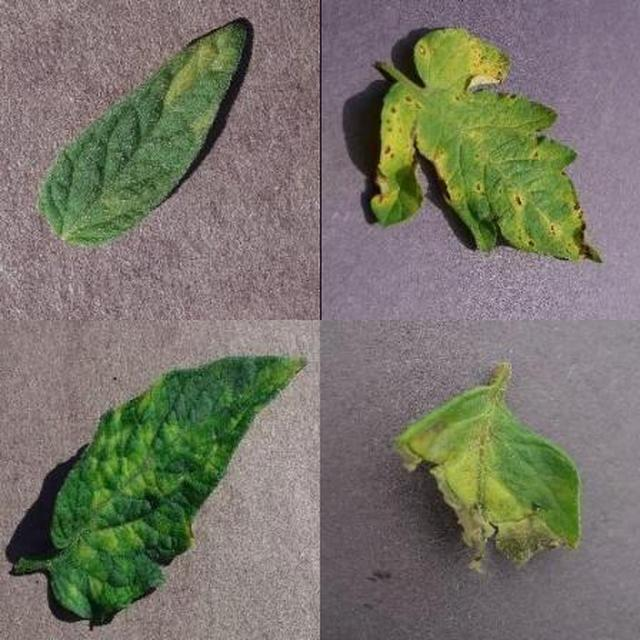Leaf Mold: (206, 187, 640, 640)
